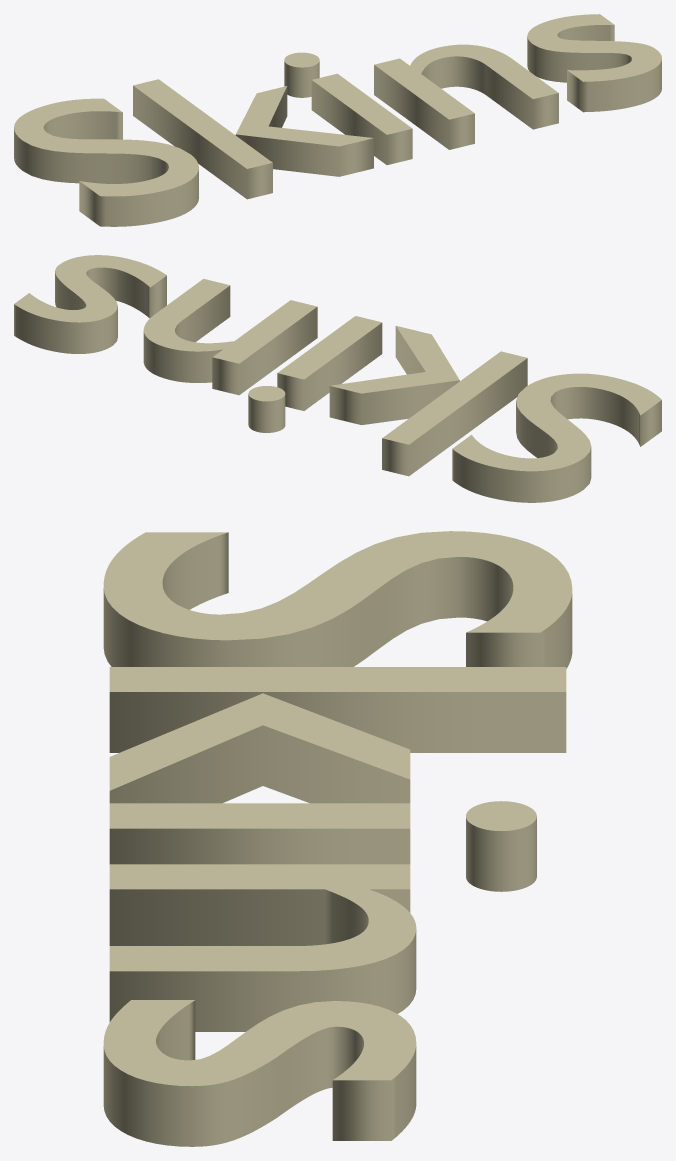
Rendered from SM_Skins.FBX.
3 views of the same model, one above another, from view 1: azimuth 30°, elevation 25°; view 2: azimuth 150°, elevation 25°; view 3: azimuth 270°, elevation 25° (orthographic). The views are drawn at different scales.
Visible parts, largest first — view 1: SM_Skins; view 2: SM_Skins; view 3: SM_Skins.
Boxes of the visible parts, x1,y1,x2,y2 form: SM_Skins: [14, 14, 661, 226]; SM_Skins: [14, 255, 661, 502]; SM_Skins: [103, 531, 572, 1146].
Bounding box in the file's own units: 196 × 70 × 10.
